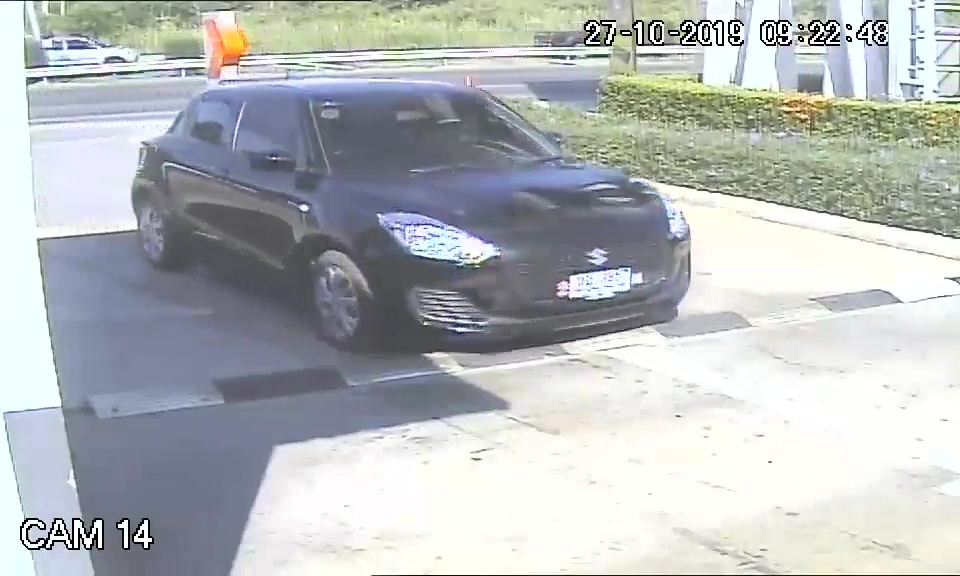sedan: (125, 75, 696, 354)
